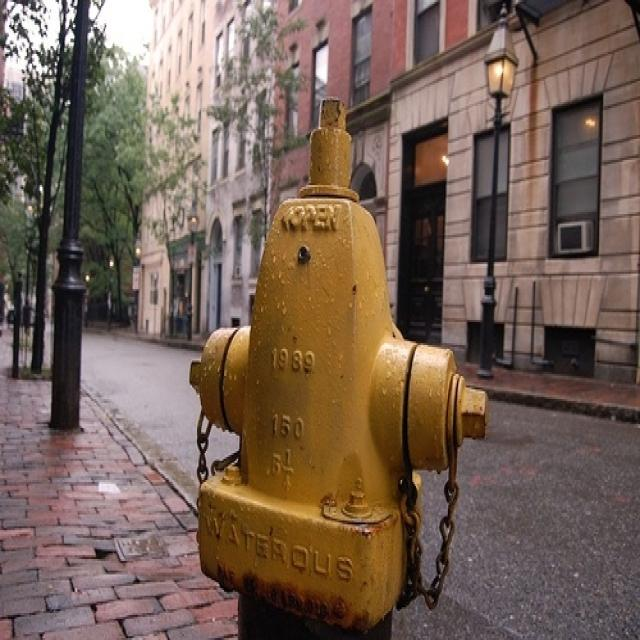fire_hydrant: (206, 64, 461, 639)
